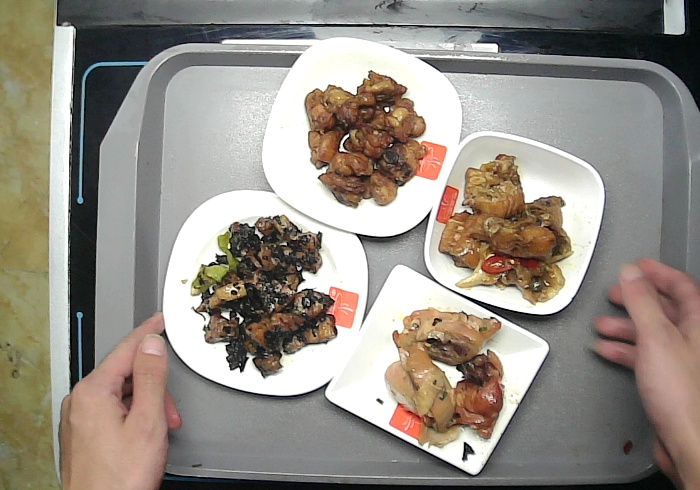SHKJ-Bai_Se_Cai_Die: (259, 33, 467, 240)
SHKJ-Bai_Se_Si_Fang_Cai_Die: (158, 186, 373, 401)
SHKJ-Bai_Se_Xiao_Fang_Die: (423, 129, 610, 320)
SHKJ-Si_Fang_Min: (322, 260, 558, 482)
